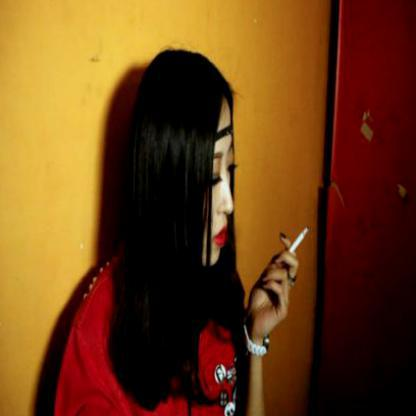cigarette: (288, 224, 311, 260)
person: (73, 43, 253, 415)
